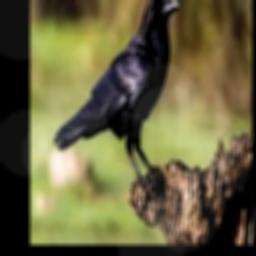Crow: (53, 0, 181, 195)
